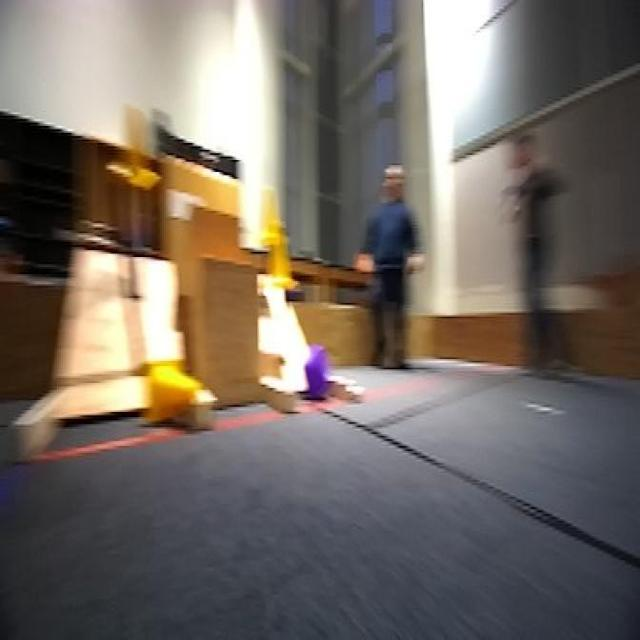frc_cone: (148, 361, 202, 425), (119, 106, 158, 190), (268, 221, 297, 288), (264, 194, 286, 242)
frc_cube: (304, 351, 330, 393)
